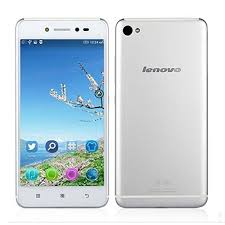lenovo: (14, 14, 110, 209), (114, 15, 210, 210)
